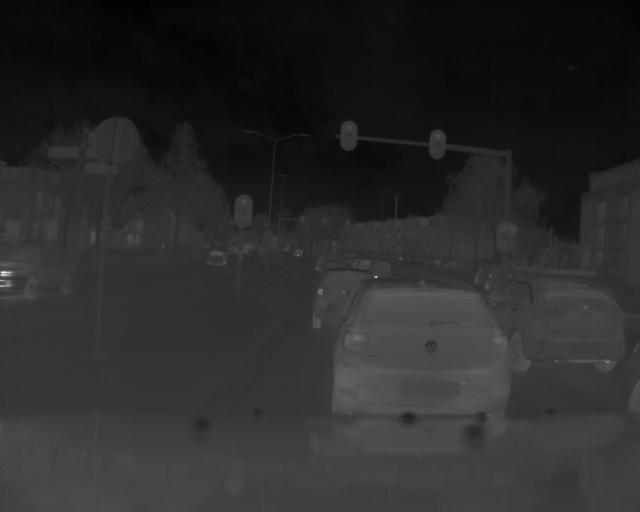car: (327, 276, 513, 437), (479, 273, 626, 375), (309, 269, 386, 333), (1, 237, 80, 299), (201, 247, 227, 267)
